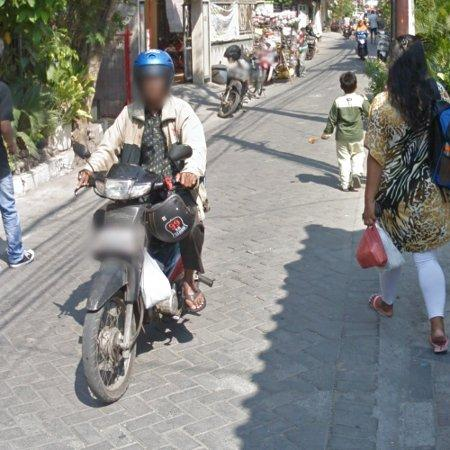motorcycles: (82, 164, 193, 404)
